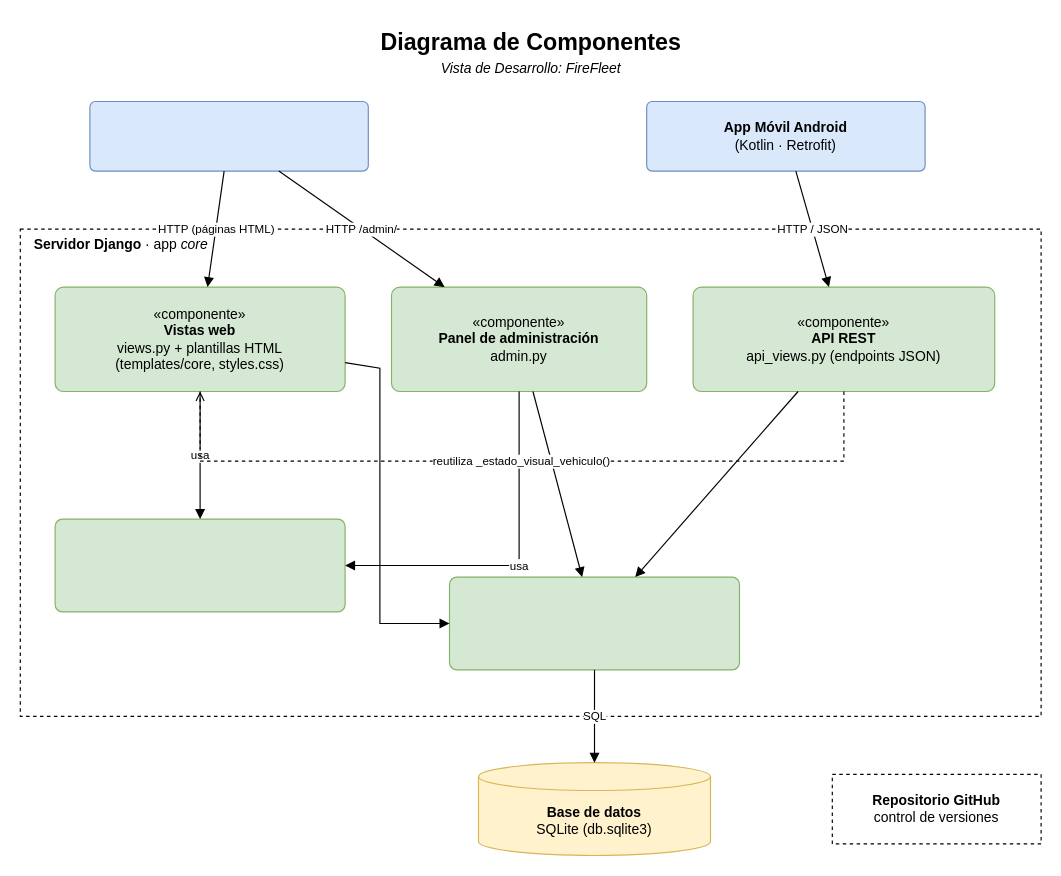
Image size: 1061x876. Some labels were removed from this diagram. Each missing label, with the centre of its shape:
"Navegador web (Administrador / Encargado de flota)" goes at pixel 228 135.
"«componente» Autenticación django.contrib.auth @login_required" goes at pixel 199 565.
"«componente» Modelos models.py (ORM de Django)" goes at pixel 594 623.
